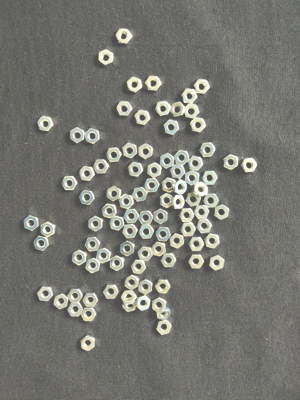nut: (116, 28, 133, 45), (98, 49, 114, 66), (85, 128, 101, 145), (37, 116, 54, 132), (37, 286, 54, 302), (127, 77, 143, 93), (182, 88, 198, 104), (164, 120, 180, 136), (135, 110, 151, 126), (122, 143, 138, 159), (128, 162, 144, 178), (169, 233, 185, 249), (96, 248, 112, 264), (24, 216, 40, 232), (34, 236, 50, 252), (156, 320, 172, 336), (190, 118, 207, 133), (199, 143, 216, 158), (224, 154, 239, 171), (241, 158, 258, 173), (93, 159, 110, 174), (139, 143, 154, 160), (173, 179, 188, 196), (101, 204, 118, 219), (204, 234, 221, 249), (84, 237, 101, 252), (81, 335, 96, 352), (145, 76, 163, 90), (194, 79, 210, 94), (170, 102, 186, 117), (155, 101, 171, 116), (70, 128, 85, 144), (62, 176, 78, 191), (79, 167, 95, 182), (106, 148, 122, 163), (160, 153, 175, 169), (174, 150, 190, 165), (188, 156, 204, 171), (79, 191, 95, 206), (170, 164, 186, 179), (202, 171, 218, 186), (107, 186, 122, 202), (119, 194, 134, 210), (144, 178, 160, 193), (132, 187, 148, 202), (214, 205, 230, 220), (194, 205, 210, 220), (138, 210, 154, 225), (124, 209, 140, 224), (88, 216, 103, 232), (197, 219, 213, 234), (122, 224, 138, 239), (138, 225, 154, 240), (189, 237, 205, 252), (209, 256, 225, 271), (137, 247, 153, 262), (120, 241, 135, 257), (41, 222, 56, 238), (86, 258, 101, 274), (110, 255, 125, 271), (155, 279, 171, 294), (136, 295, 151, 311), (83, 293, 99, 308), (54, 294, 69, 310), (116, 102, 133, 116), (203, 194, 220, 208), (188, 255, 205, 269), (103, 285, 120, 299), (185, 104, 200, 119), (185, 171, 200, 186), (193, 182, 208, 197), (110, 216, 125, 231), (156, 227, 171, 242), (151, 242, 166, 257), (124, 275, 139, 290), (162, 177, 176, 193), (186, 193, 202, 207), (179, 209, 195, 223), (154, 209, 168, 225), (161, 254, 177, 268), (73, 250, 87, 266), (131, 260, 147, 274), (139, 279, 153, 295), (123, 297, 137, 313), (67, 289, 83, 303), (67, 303, 83, 317), (81, 308, 97, 322), (148, 163, 162, 178), (171, 195, 185, 210), (181, 223, 196, 237), (153, 297, 167, 312), (160, 193, 173, 209), (121, 291, 137, 304), (157, 308, 171, 320)
